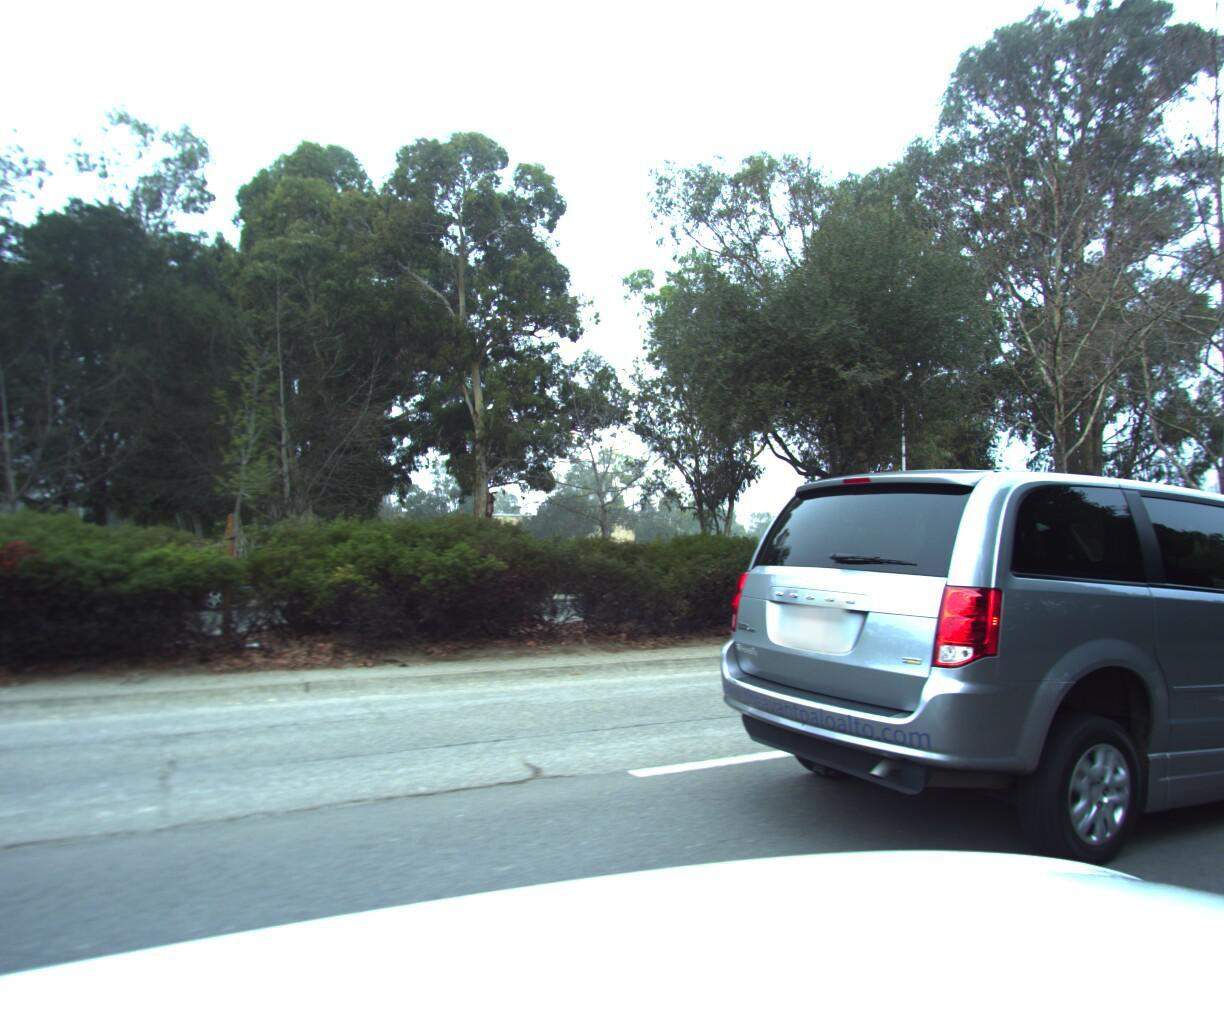car: (672, 437, 1224, 952)
